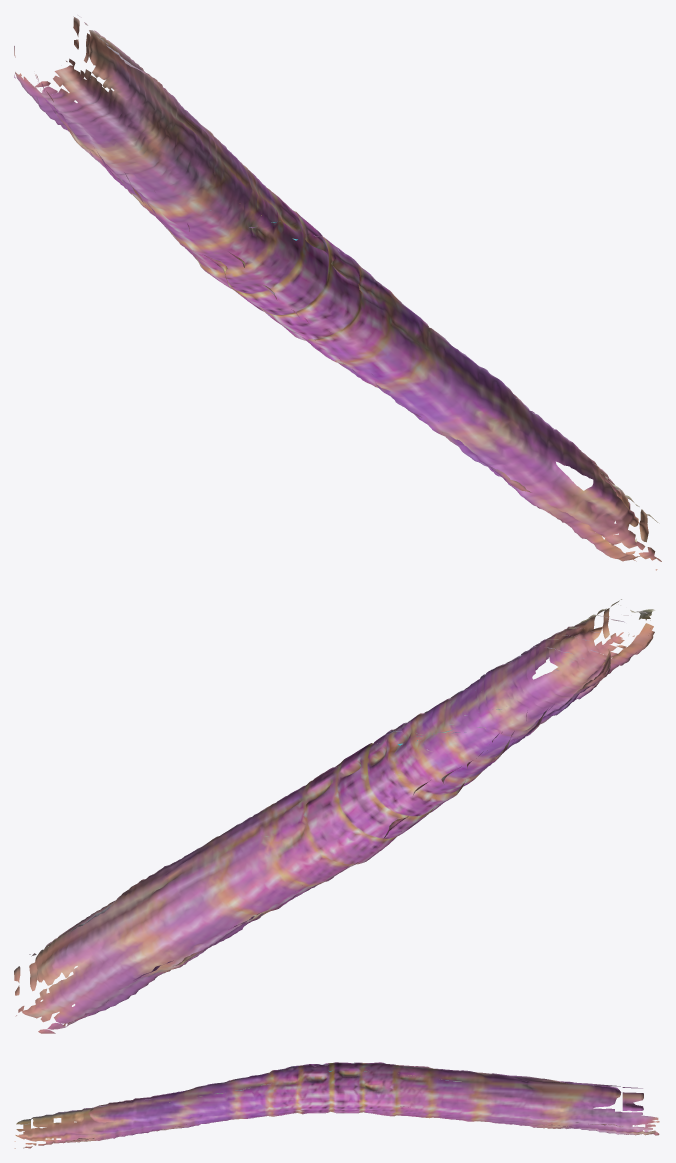
File: collider.glb
3 renders of one model, top to bottom at view 1: azimuth 30°, elevation 25°; view 2: azimuth 150°, elevation 25°; view 3: azimuth 270°, elevation 25°, orthographic. The views are drawn at different scales.
Parts seen in each view (by area): view 1: world; view 2: world; view 3: world.
Part boxes in pixels (x1,y1,x2,y2): world: (14,15,661,570); world: (14,599,654,1033); world: (14,1062,659,1148).
Bounding box in the file's own units: 4.2 × 3.58 × 32.54.
